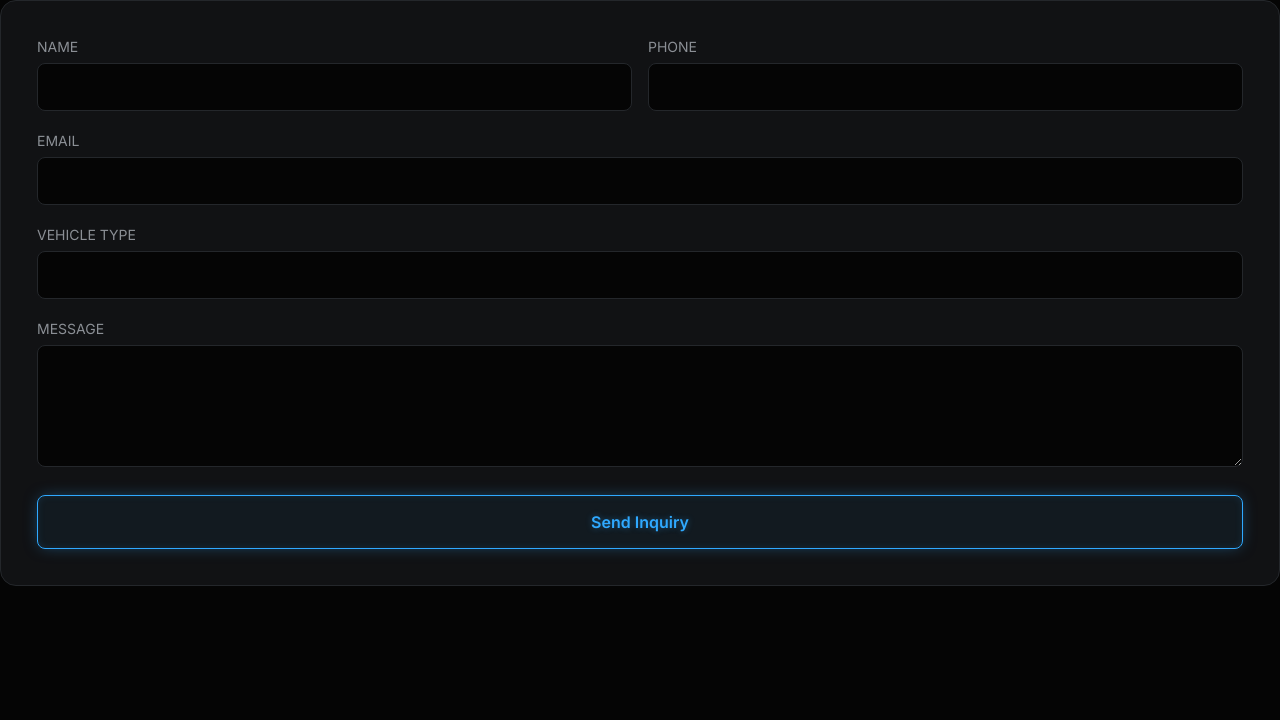
Test case: ContactForm › clears the error message once the user starts editing again
In the field labelled "NAME": (334, 87) top-left (37, 63), bottom-right (632, 111), type "Jordan Smith"
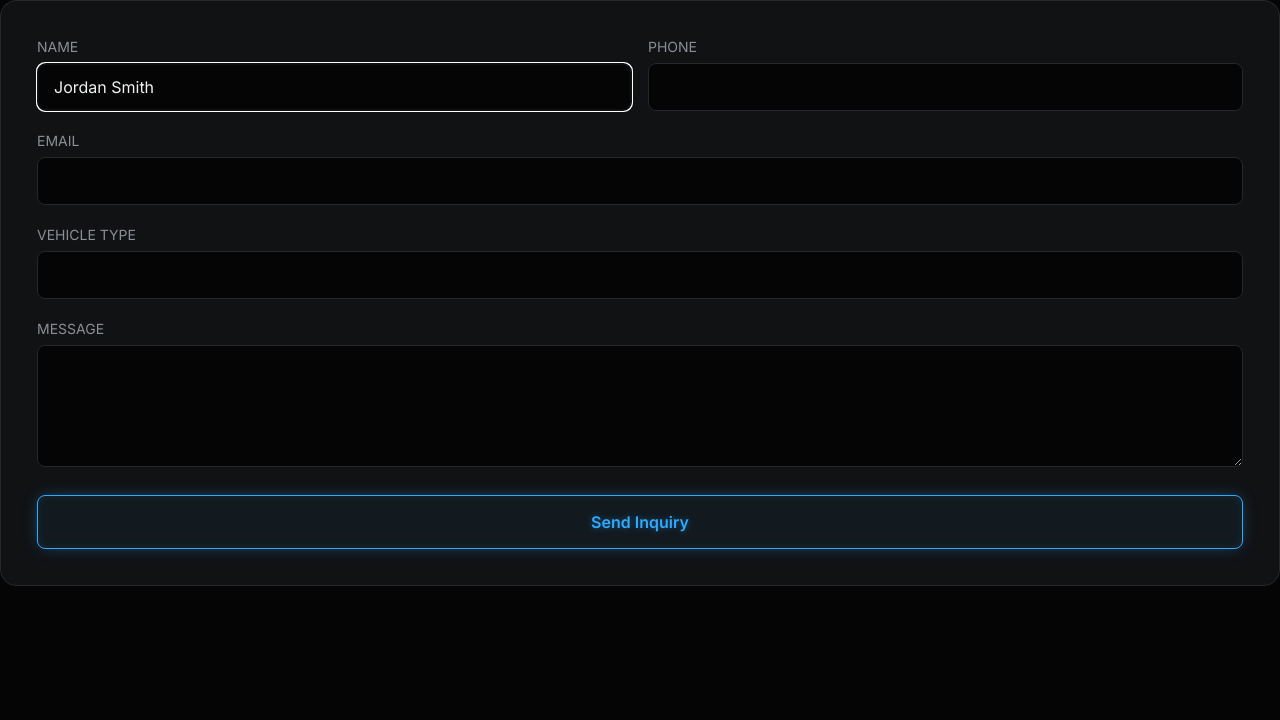
In the field labelled "PHONE": (946, 87) top-left (648, 63), bottom-right (1243, 111), type "5551234567"
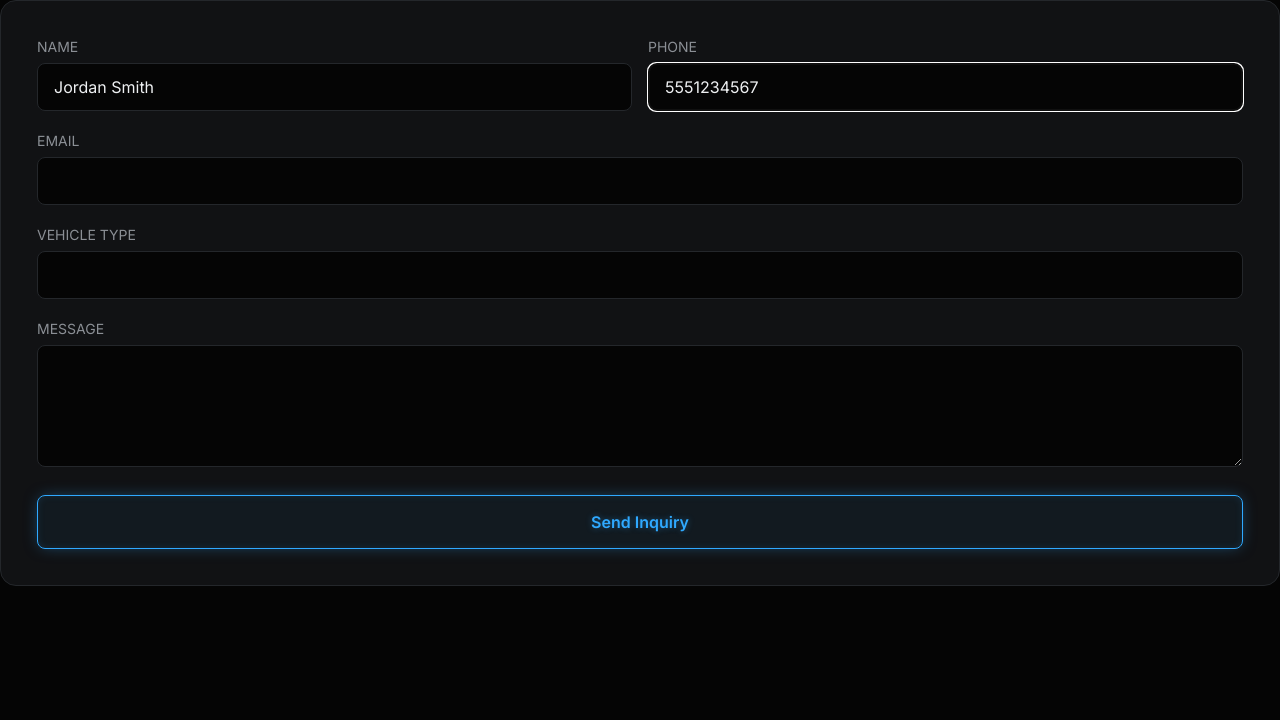
In the field labelled "EMAIL": (640, 181) top-left (37, 157), bottom-right (1243, 205), type "jordan@example.com"
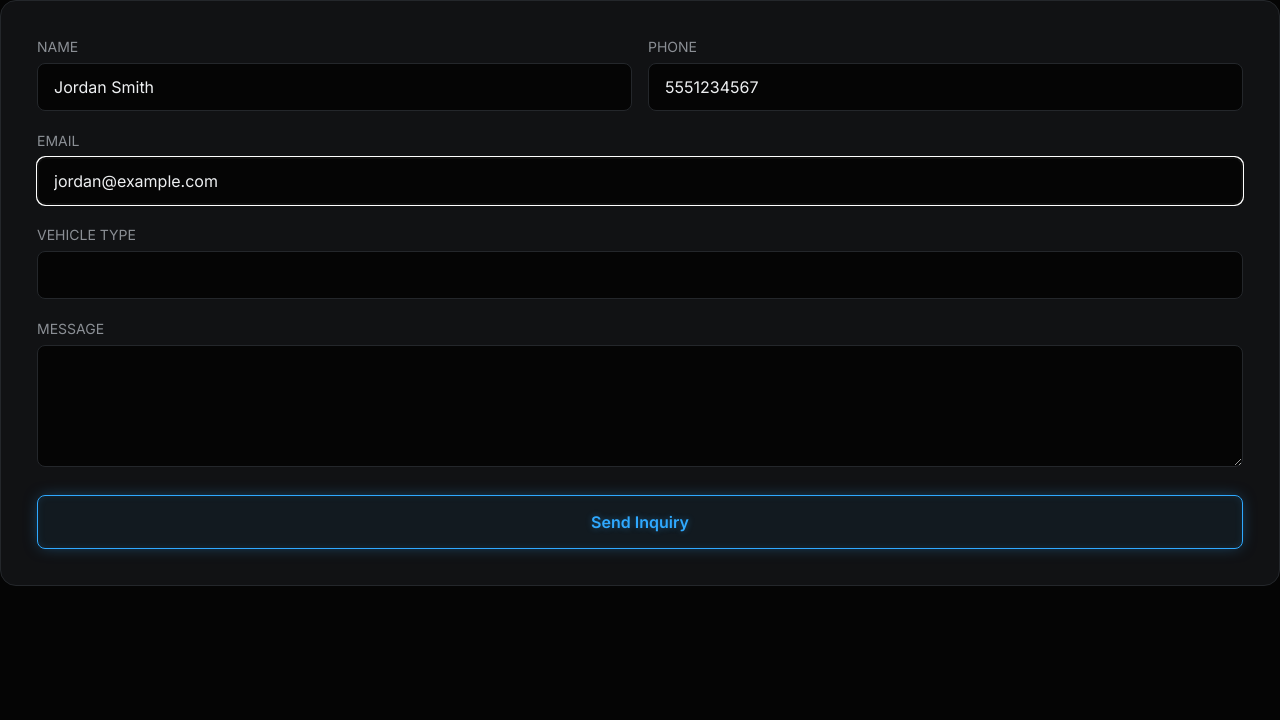
Click the button "Send Inquiry": (640, 522) top-left (37, 495), bottom-right (1243, 549)
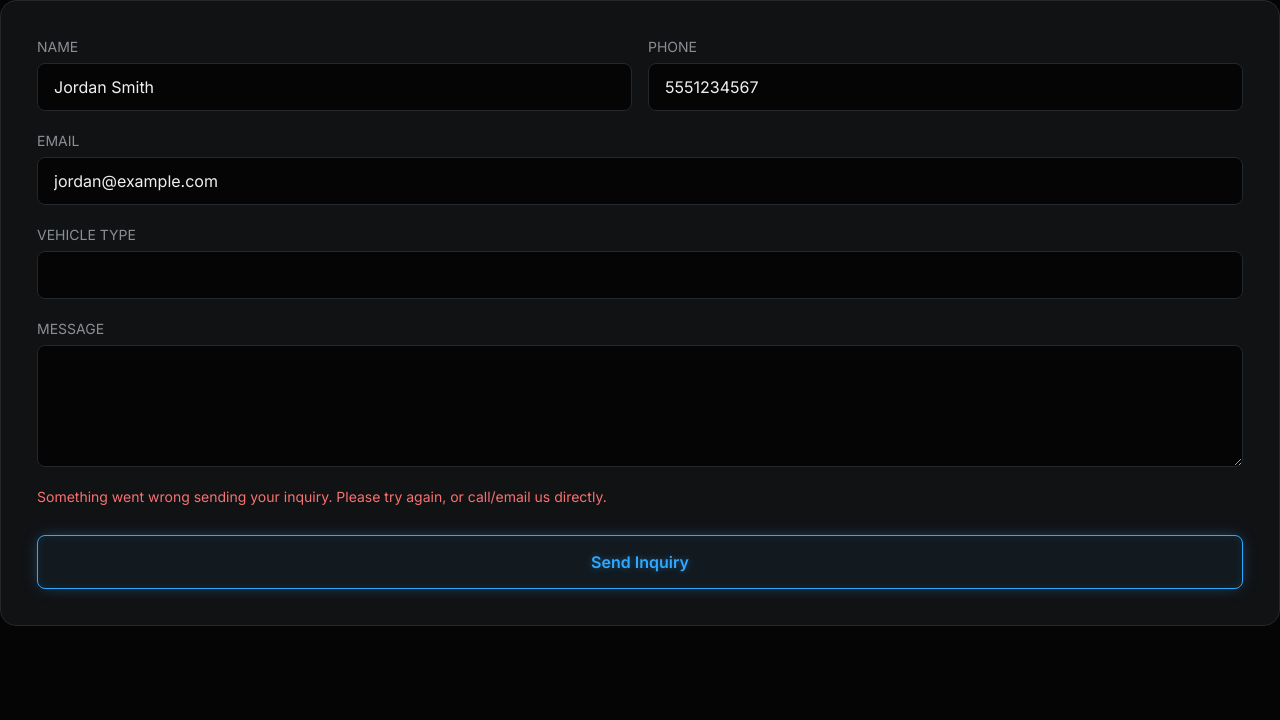
Expected: the message is shown, top-left (37, 488), bottom-right (607, 505)
In the field labelled "NAME": (334, 87) top-left (37, 63), bottom-right (632, 111), type " Jr."
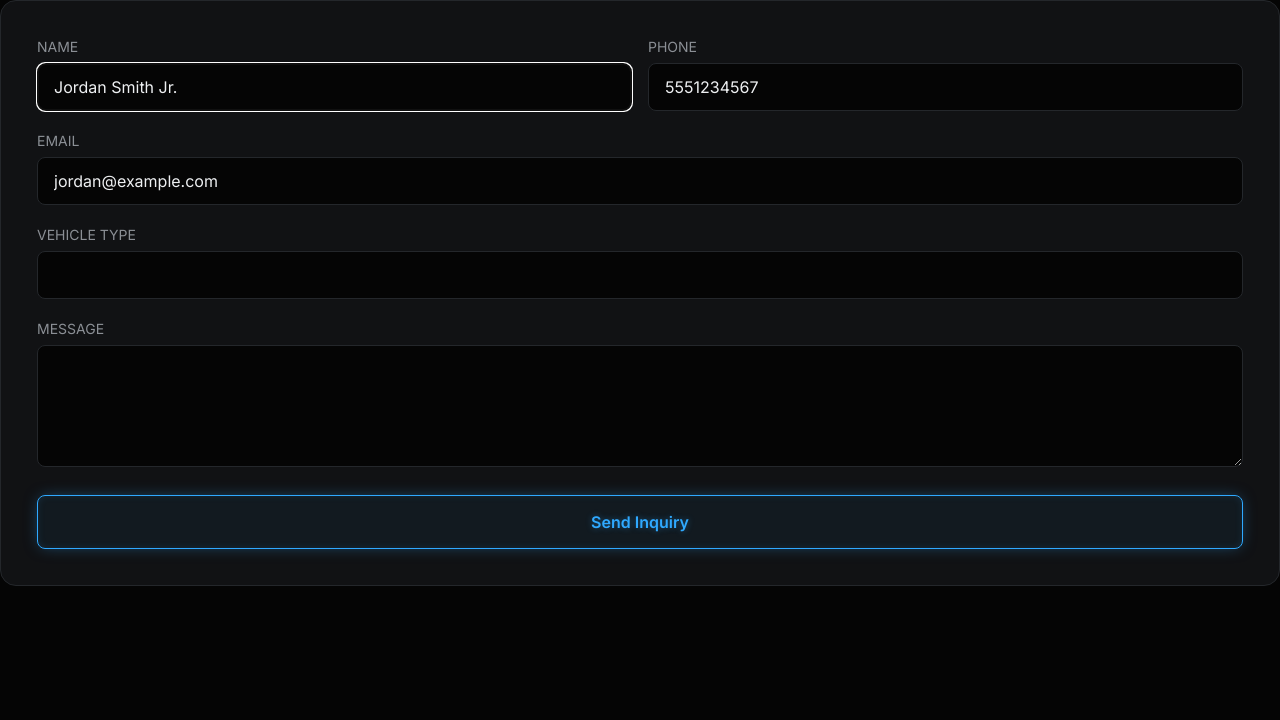
Expected: the message is gone
